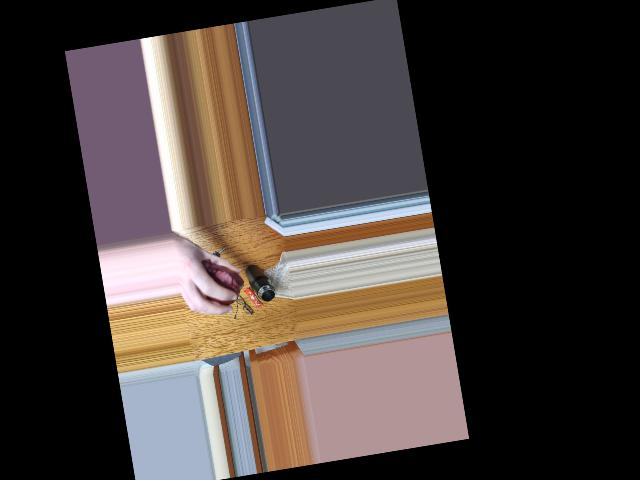onion: (202, 259, 242, 306)
